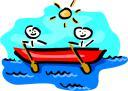boat: (10, 44, 108, 66)
person: (21, 23, 49, 49), (69, 26, 94, 47)
